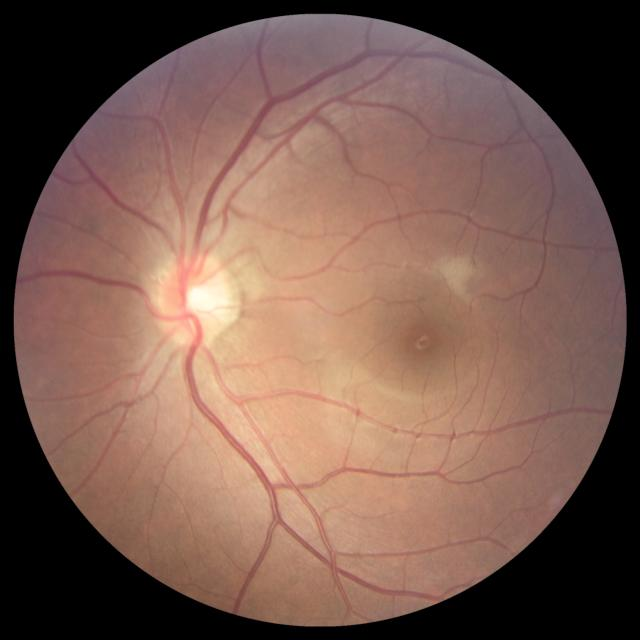OC: (180, 278, 220, 317)
OD: (154, 252, 235, 344)
